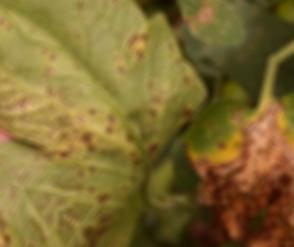Tomato Septoria leaf spot: (0, 0, 251, 247), (165, 57, 294, 241)
